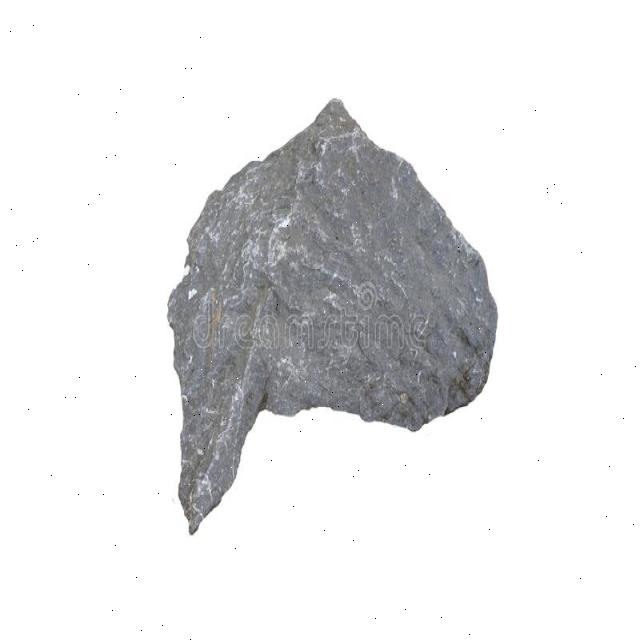Sedimentary: (160, 89, 518, 547)
